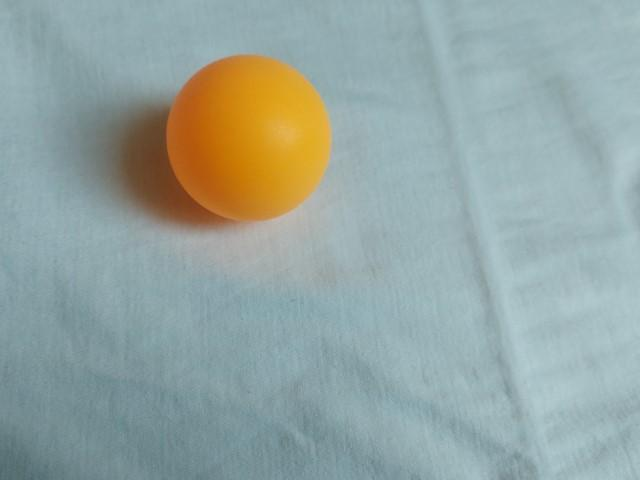oball: (156, 49, 342, 228)
